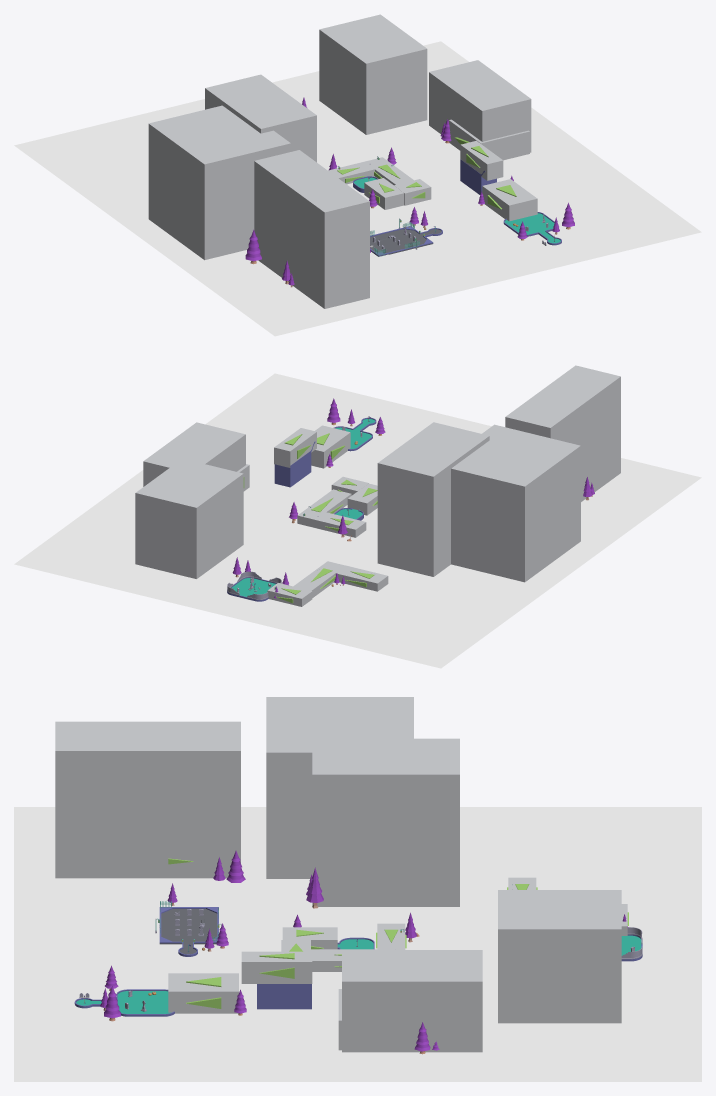
The model's file is spooky-client.glb.
The picture shows the model from 3 angles, top to bottom: view 1: azimuth 30°, elevation 25°; view 2: azimuth 150°, elevation 25°; view 3: azimuth 270°, elevation 25°; orthographic projection. The views are drawn at different scales.
Parts seen in each view (by area): view 1: ground, bounds5, bounds8, bounds3, direction (×7), bounds9, map, bounds2; view 2: ground, bounds5, bounds2, bounds3, bounds8, direction (×8), map, bounds9; view 3: ground, bounds8, bounds2, bounds3, bounds9, bounds5, map, direction (×6).
Boxes of the visible parts, x1=… form: ground: x1=14, y1=41, x2=701, y2=336; bounds5: x1=148, y1=105, x2=290, y2=260; bounds8: x1=254, y1=150, x2=369, y2=308; bounds3: x1=319, y1=14, x2=427, y2=134; direction (×7): x1=328, y1=119, x2=537, y2=221; bounds9: x1=429, y1=60, x2=531, y2=152; map: x1=245, y1=97, x2=574, y2=287; bounds2: x1=205, y1=74, x2=316, y2=162; ground: x1=14, y1=373, x2=701, y2=668; bounds5: x1=451, y1=424, x2=580, y2=582; bounds2: x1=377, y1=422, x2=489, y2=576; bounds3: x1=135, y1=458, x2=243, y2=578; bounds8: x1=505, y1=365, x2=620, y2=501; direction (×8): x1=267, y1=425, x2=388, y2=606; map: x1=227, y1=398, x2=594, y2=601; bounds9: x1=143, y1=422, x2=245, y2=486; ground: x1=14, y1=807, x2=701, y2=1081; bounds8: x1=55, y1=721, x2=240, y2=878; bounds2: x1=312, y1=738, x2=459, y2=906; bounds3: x1=498, y1=890, x2=621, y2=1023; bounds9: x1=342, y1=950, x2=482, y2=1052; bounds5: x1=266, y1=697, x2=413, y2=878; map: x1=74, y1=850, x2=642, y2=1054; direction (×6): x1=156, y1=855, x2=406, y2=1013.
Size of the model in its own units: 54.64 by 13.27 by 57.83.
